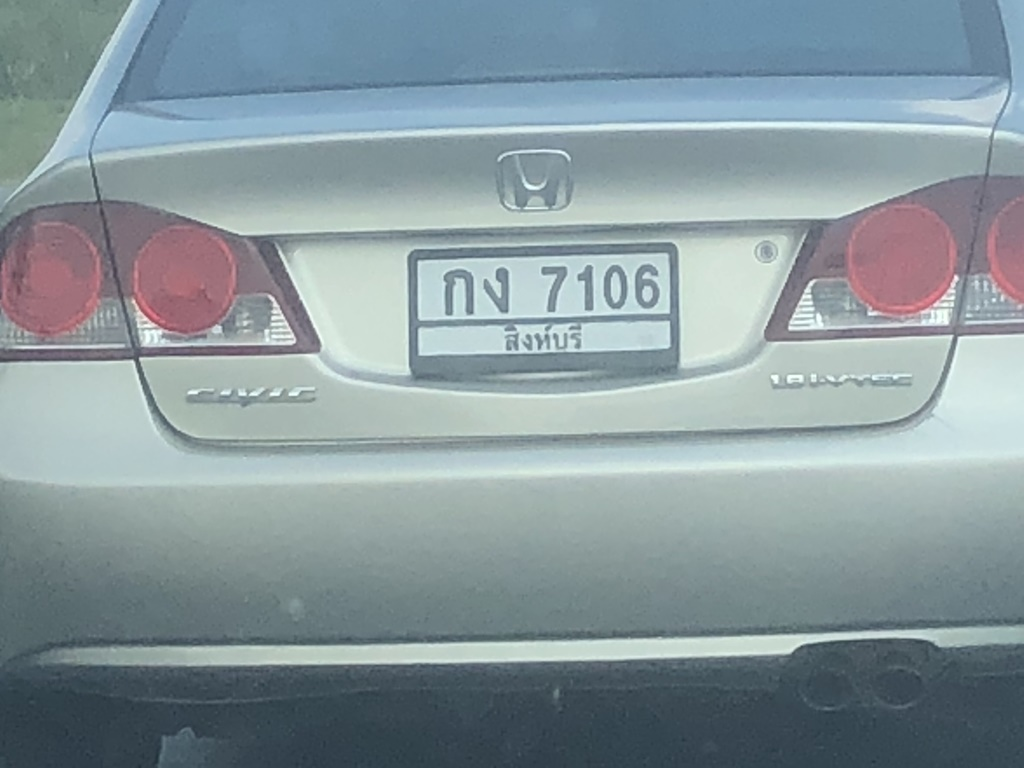one: (570, 259, 599, 317)
seven: (537, 257, 574, 317)
six: (631, 262, 665, 311)
zero: (599, 263, 629, 315)
